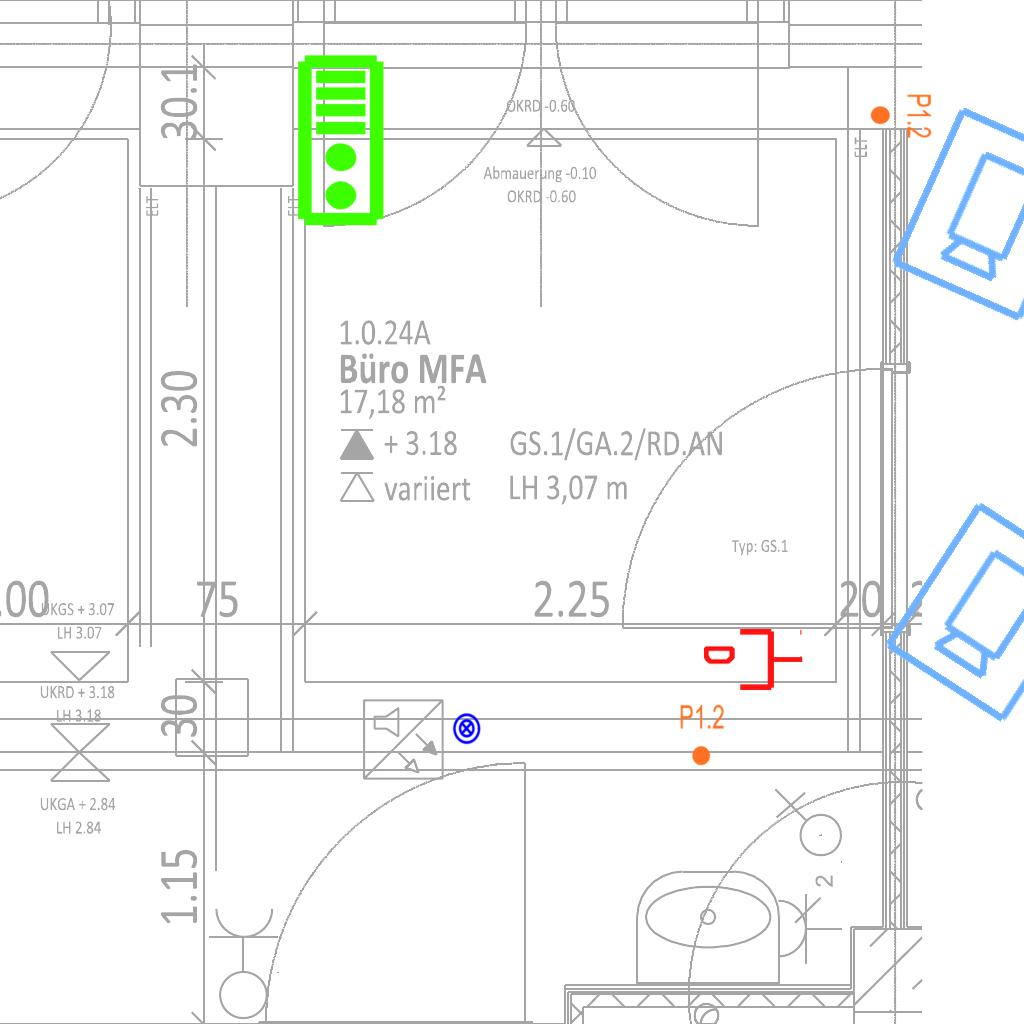Datenanschluss_einfach: (704, 625, 804, 694)
Downlight_LED_Einbauleuchten_Flur: (679, 703, 725, 767), (869, 93, 933, 139)
Gegensprechanlage_mit_Video: (295, 53, 390, 229)
KFO_Kamera_mit_Festobjektiv: (875, 492, 1024, 730), (882, 98, 1024, 328)
Taster_beleuchtet: (450, 712, 483, 745)
